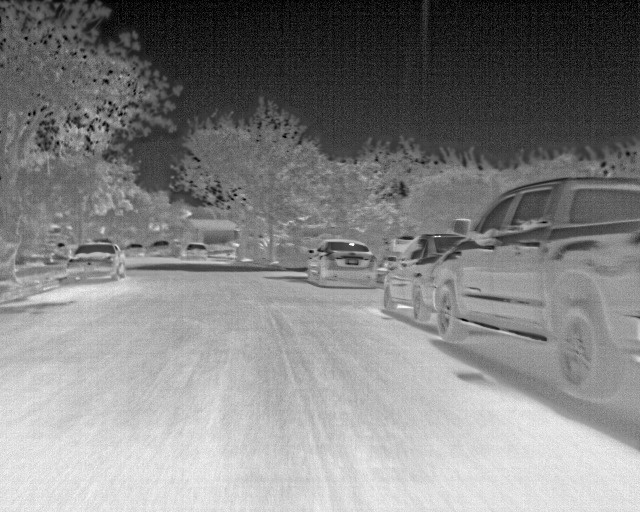vehicle: (432, 183, 640, 398), (386, 233, 459, 318), (308, 237, 376, 285), (68, 239, 127, 286), (147, 241, 173, 261), (185, 241, 206, 261)
